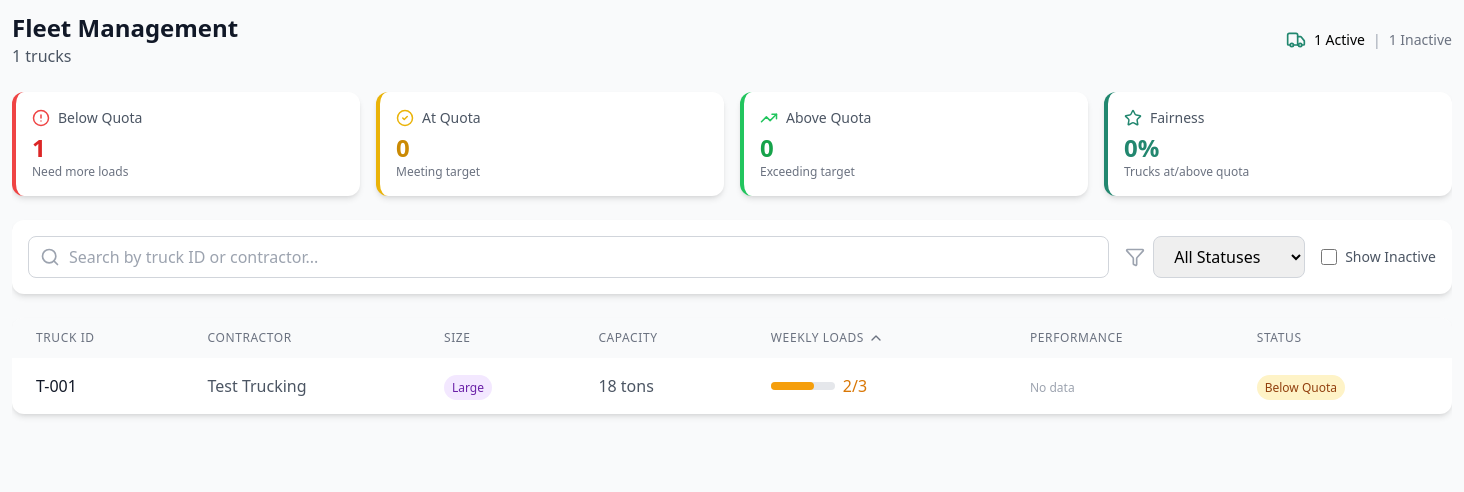
TruckList › filtering › should show inactive trucks when checkbox is checked
Click the checkbox labelled "Show Inactive": click(1329, 257) [1321,249,1337,265]
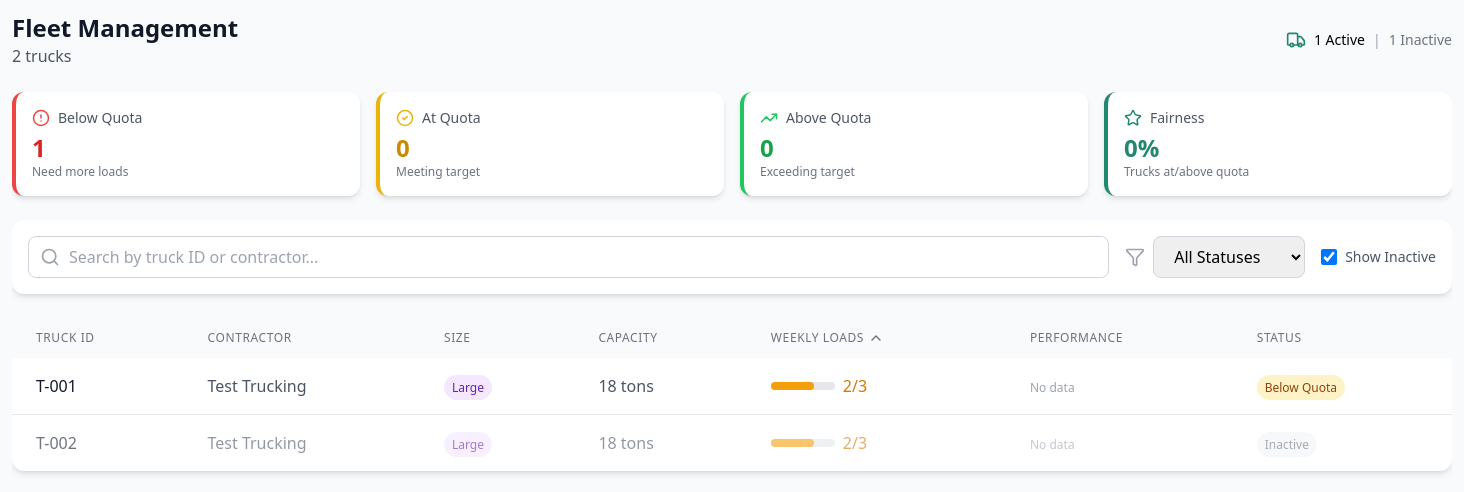
Check: the text "T-001" is shown, box [12,358,184,414]
Check: the text "T-002" is shown, box [12,414,184,471]
